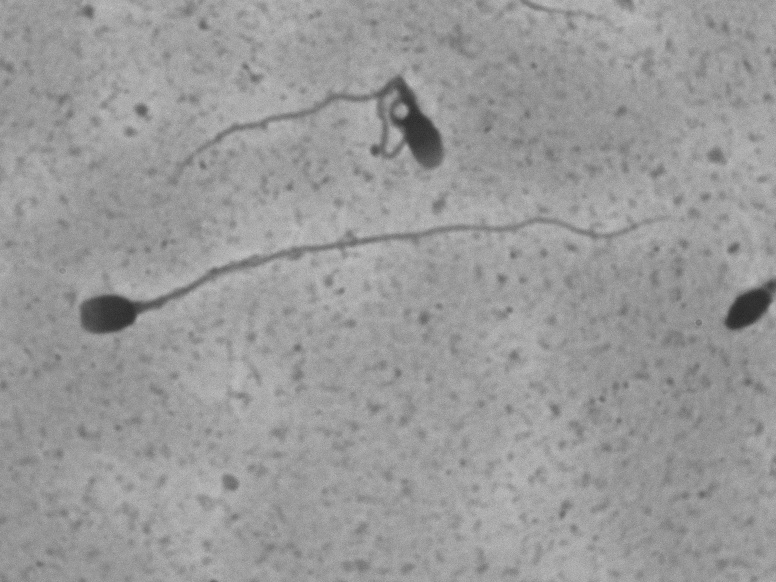Abnormal: (153, 45, 477, 205)
Normal: (51, 193, 703, 395)
